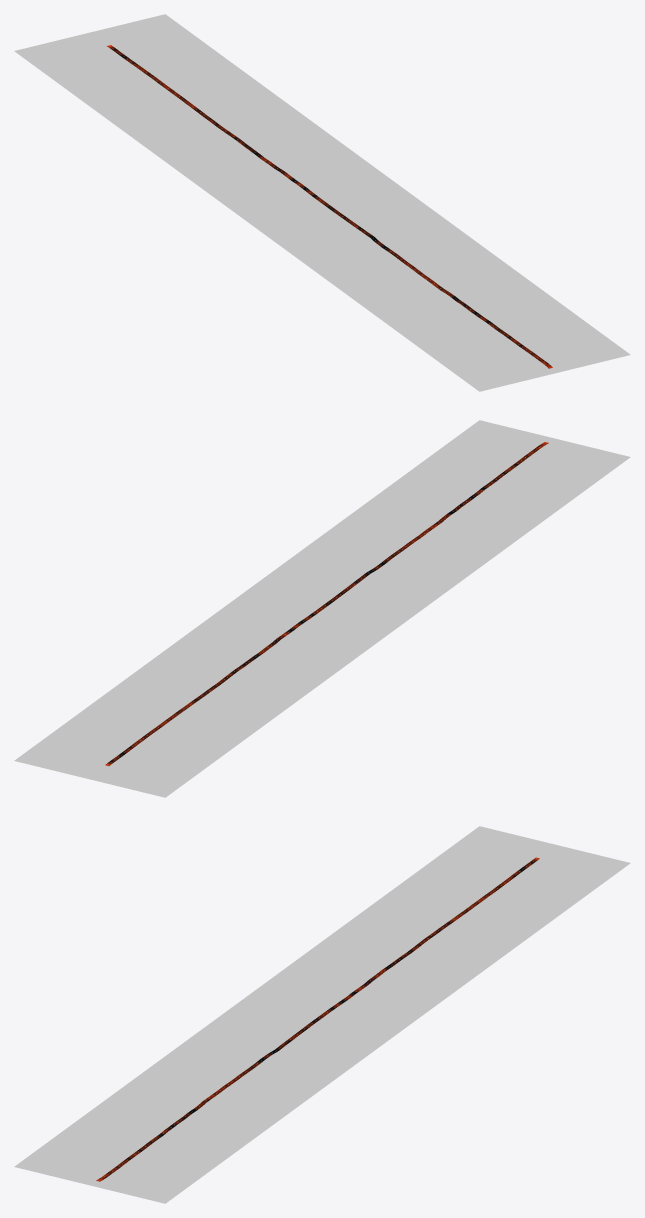
The model's file is Road_map.fbx.
The picture shows the model from 3 angles, top to bottom: view 1: azimuth 30°, elevation 25°; view 2: azimuth 150°, elevation 25°; view 3: azimuth 330°, elevation 25°; orthographic projection.
Visible parts, largest first — view 1: Plane, Cube; view 2: Plane, Cube; view 3: Plane, Cube.
Boxes of the visible parts, <box> form: Plane: <box>14,14,630,391</box>; Cube: <box>107,45,552,368</box>; Plane: <box>14,420,630,797</box>; Cube: <box>105,442,548,765</box>; Plane: <box>14,826,630,1203</box>; Cube: <box>96,857,539,1181</box>.
Bounding box in the file's own units: 2000 × 2.33 × 10652.
